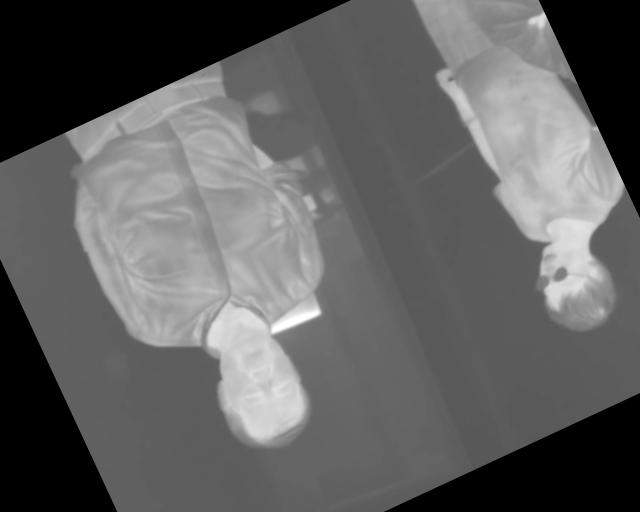face: (193, 314, 327, 466), (521, 224, 630, 347)
